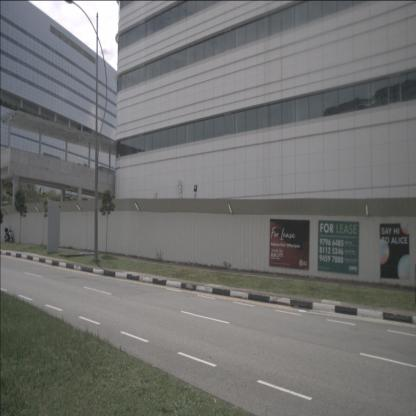vehicle-motorcycle: (4, 226, 14, 243)
